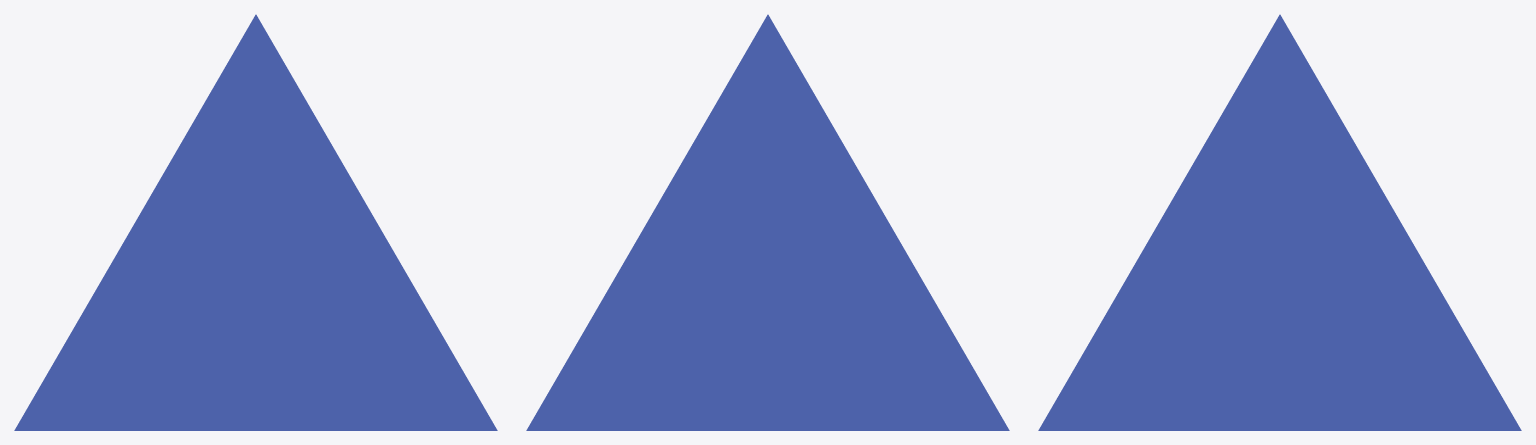
File: 1_Stone_Hill.S.dae
3 views of the same model, side by side, from view 1: azimuth 30°, elevation 25°; view 2: azimuth 150°, elevation 25°; view 3: azimuth 270°, elevation 25° (orthographic).
Visible parts, largest first — view 1: s1-1_013-n_S; view 2: s1-1_013-n_S; view 3: s1-1_013-n_S.
Boxes of the visible parts, box(x1,y1,x2,y2) form: s1-1_013-n_S: box(14, 14, 497, 430); s1-1_013-n_S: box(526, 14, 1009, 430); s1-1_013-n_S: box(1038, 14, 1521, 430).
Size of the model in its own units: 35472 by 40960 by 33444.
